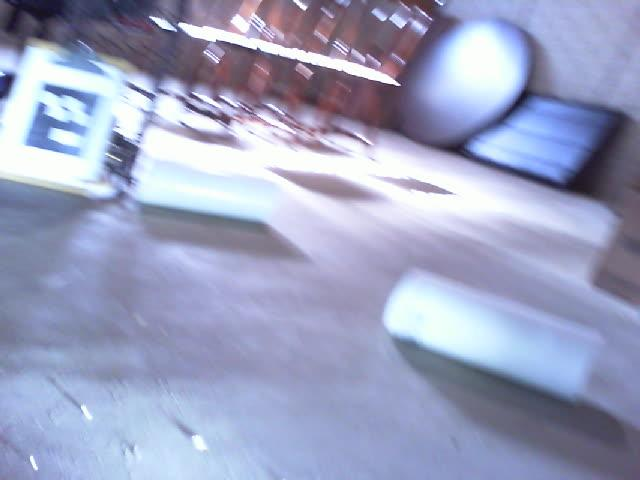coral: (384, 271, 603, 407)
